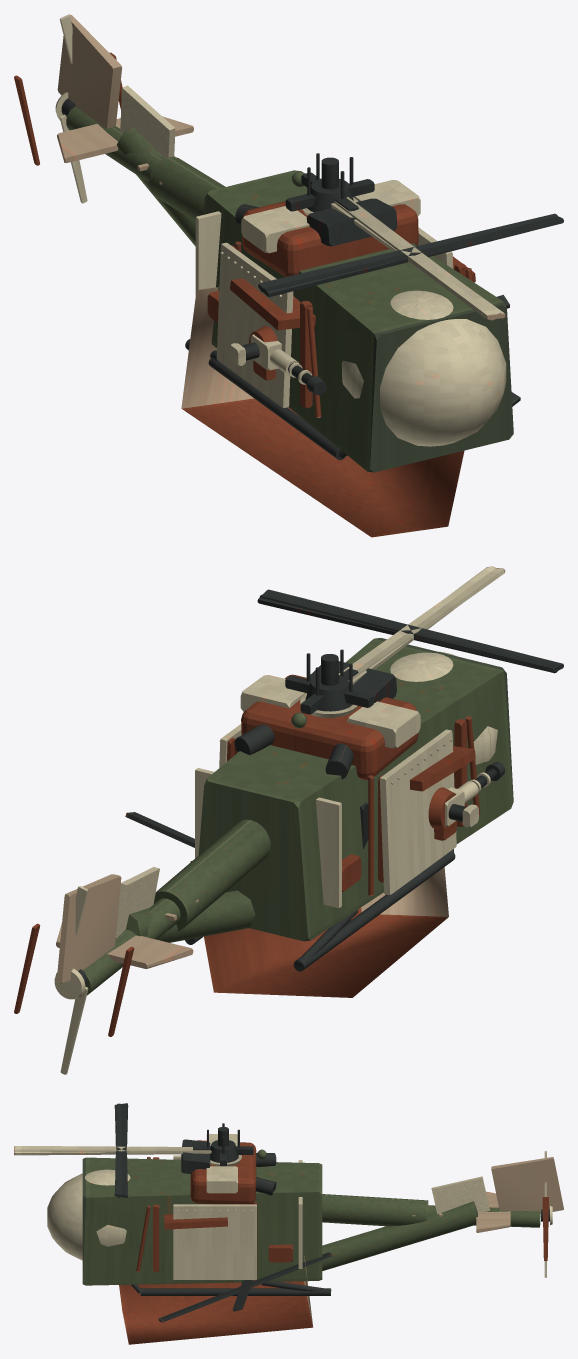
The model's file is helicopter.glb.
The picture shows the model from 3 angles, top to bottom: view 1: azimuth 30°, elevation 25°; view 2: azimuth 150°, elevation 25°; view 3: azimuth 270°, elevation 25°; orthographic projection. The views are drawn at different scales.
Visible parts, largest first — view 1: helicopter_fuselage, wreckage_cabin, rotor_main, wreckage_tail, rotor_tail, turret_pitch, turret_yaw_mesh; view 2: helicopter_fuselage, wreckage_cabin, rotor_main, wreckage_tail, rotor_tail, turret_pitch, turret_yaw_mesh, wreckage_rotor; view 3: helicopter_fuselage, wreckage_cabin, wreckage_tail, rotor_main, wreckage_rotor, rotor_tail.
Boxes of the visible parts, x1=… form: helicopter_fuselage: x1=57, y1=14, x2=513, y2=472; wreckage_cabin: x1=181, y1=287, x2=464, y2=537; rotor_main: x1=258, y1=153, x2=563, y2=320; wreckage_tail: x1=117, y1=85, x2=195, y2=246; rotor_tail: x1=14, y1=15, x2=122, y2=203; turret_pitch: x1=250, y1=334, x2=326, y2=395; turret_yaw_mesh: x1=229, y1=326, x2=277, y2=367; helicopter_fuselage: x1=56, y1=638, x2=513, y2=995; wreckage_cabin: x1=190, y1=861, x2=448, y2=997; rotor_main: x1=257, y1=566, x2=563, y2=717; wreckage_tail: x1=115, y1=867, x2=255, y2=942; rotor_tail: x1=14, y1=886, x2=134, y2=1074; turret_pitch: x1=434, y1=762, x2=505, y2=840; turret_yaw_mesh: x1=428, y1=787, x2=478, y2=828; wreckage_rotor: x1=125, y1=812, x2=194, y2=847; helicopter_fuselage: x1=47, y1=1134, x2=563, y2=1295; wreckage_cabin: x1=119, y1=1256, x2=313, y2=1344; wreckage_tail: x1=322, y1=1176, x2=489, y2=1270; rotor_main: x1=14, y1=1103, x2=253, y2=1197; wreckage_rotor: x1=158, y1=1252, x2=332, y2=1322; rotor_tail: x1=541, y1=1151, x2=552, y2=1277.
Size of what is drawn, in the model's own units: 4.44 by 4.05 by 9.98.
1 material, 1 textured.
